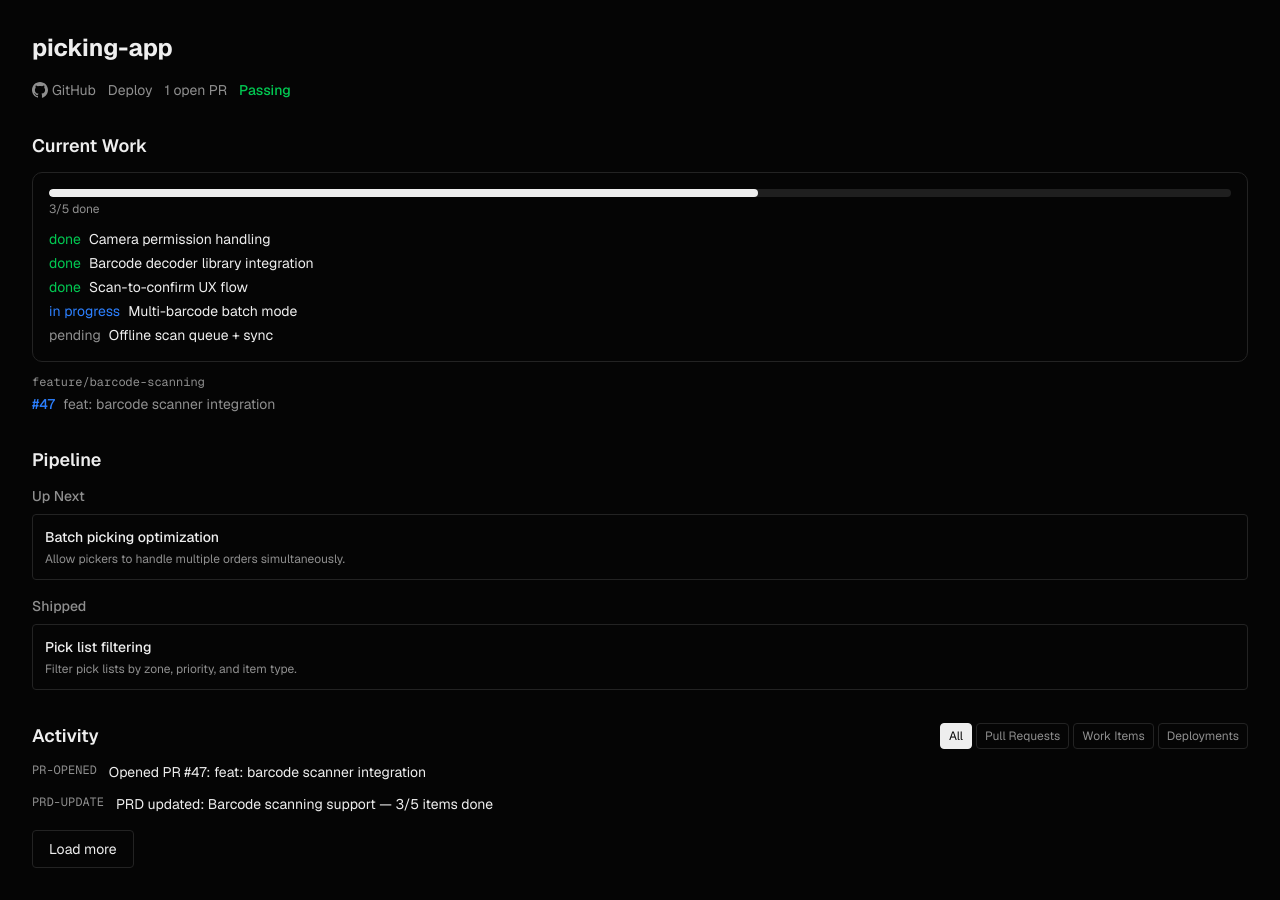
Test: Project page — load more appends events › shows events from all loaded pages after clicking load more
Expected: the text "Opened PR #47: feat: barcode scanner integration" is shown, [109,762,426,782]
Click the button "Load more": click(83, 849) [32,830,134,868]
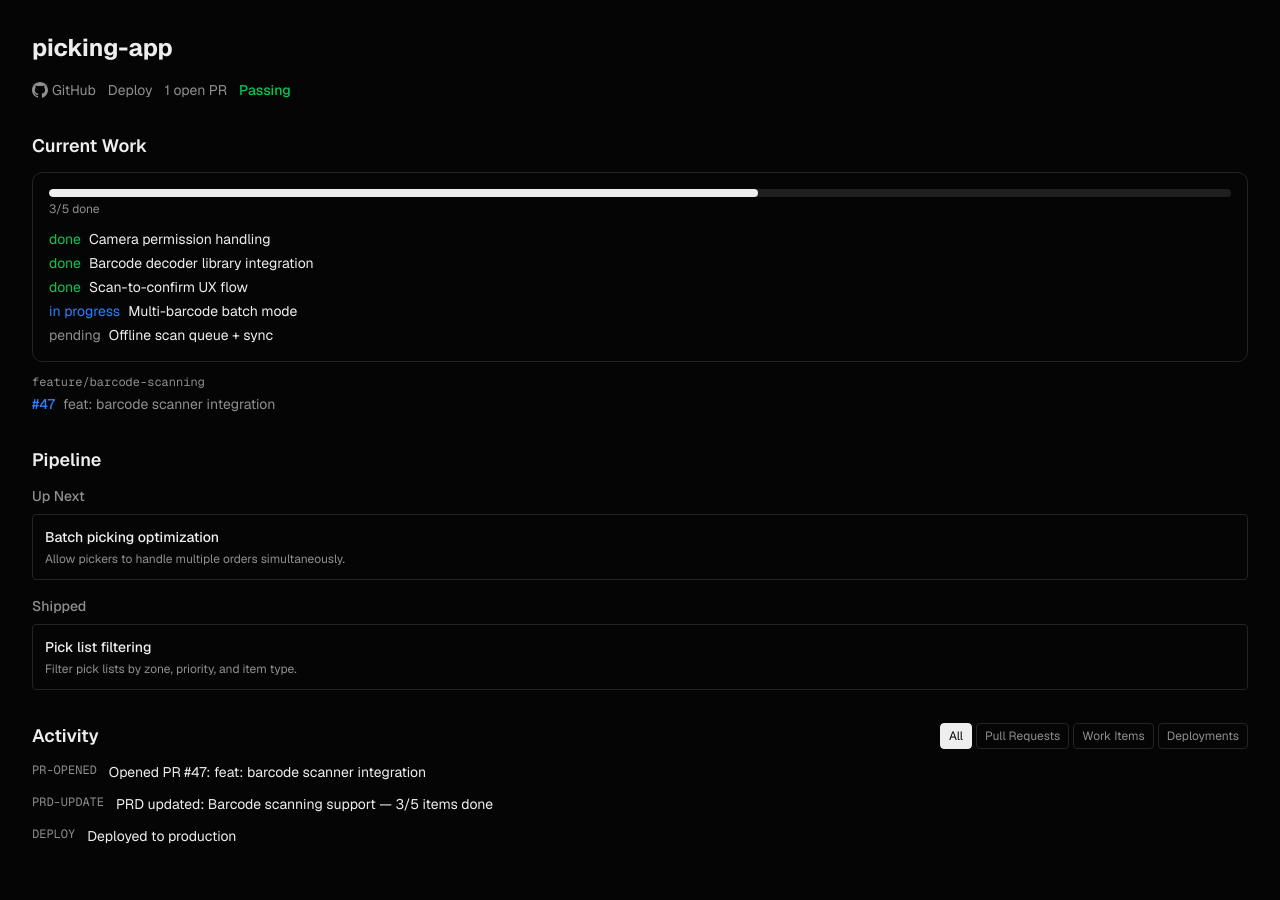
Expected: the text "Opened PR #47: feat: barcode scanner integration" is shown, [109,762,426,782]
Expected: the text "Deployed to production" is shown, [87,826,236,846]
